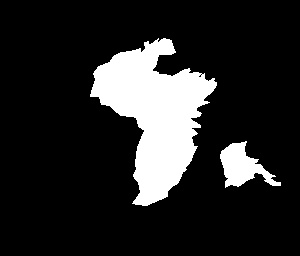Fire: (94, 39, 189, 202), (218, 141, 271, 193)
